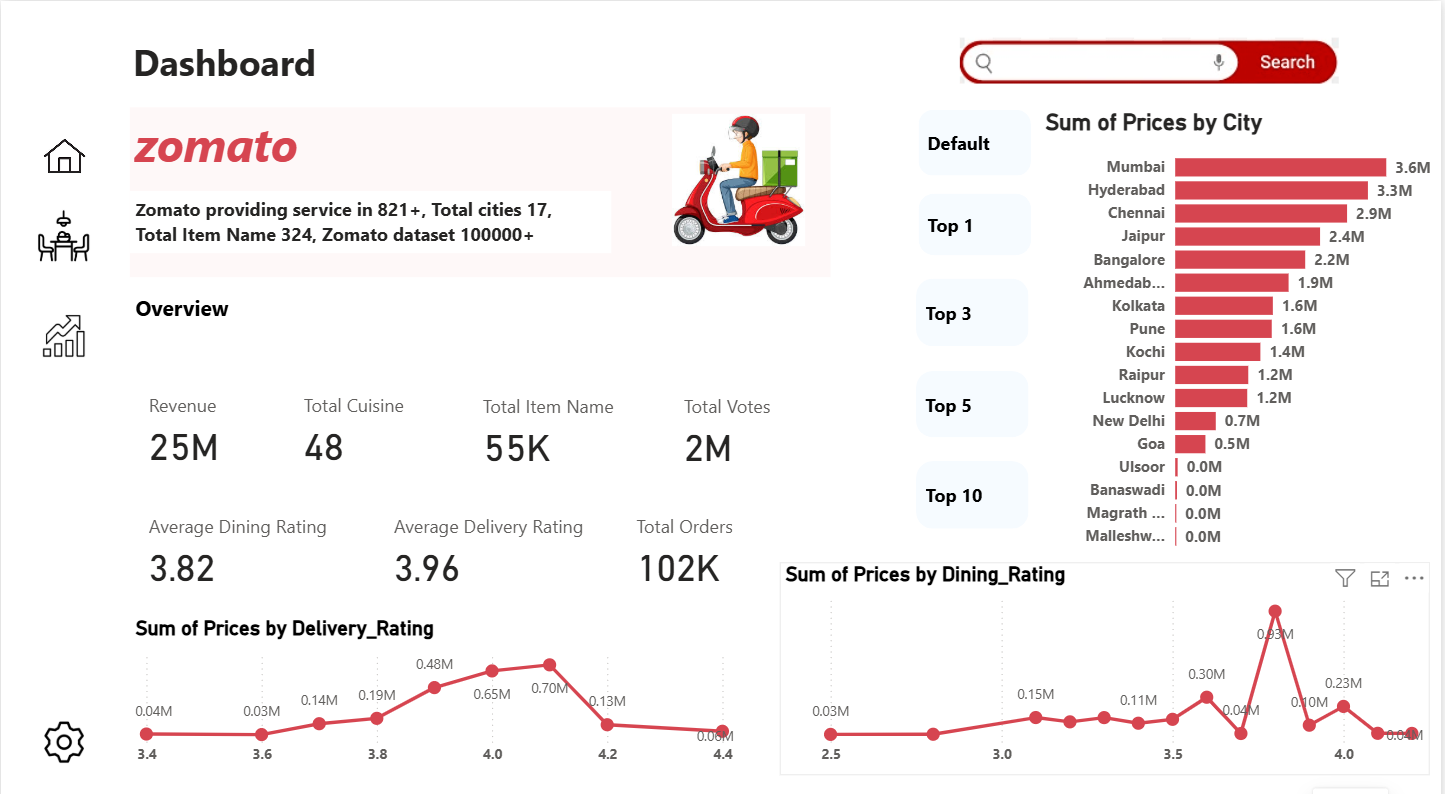

What the dashboard file says about the page in this screenshot:
{"tool":"powerbi","page":{"name":"Page 1","canvas":[1280,720],"ordinal":0},"visuals":[{"type":"textbox","box":[112.5,27.4,279.9,56.3],"z":0},{"type":"image","box":[19.2,177,74.1,64.5],"z":1000},{"type":"image","box":[22,267.6,67.2,59],"z":2000},{"type":"image","box":[23.3,629.8,65.9,57.6],"z":3000},{"type":"actionButton","box":[113.9,94.7,623,150.9],"z":4000},{"type":"image","box":[590.1,96.1,131.7,127.6],"z":5000},{"type":"actionButton","box":[813.7,408.9,100.2,60.4],"z":7000},{"type":"actionButton","box":[813.7,329.3,100.2,59],"z":8000},{"type":"actionButton","box":[813.7,247,100.2,60.4],"z":9000},{"type":"actionButton","box":[815.1,171.5,100.2,54.9],"z":10000},{"type":"actionButton","box":[815,96.2,100,58.8],"z":11000},{"type":"textbox","box":[113.9,255.2,129,42.5],"z":12000},{"type":"barChart","fields":{"Category":["zomato_cleaned.City"],"Y":["Sum(zomato_cleaned.Prices)"]},"box":[923.4,95.1,356.4,402.1],"z":14000},{"type":"cardVisual","fields":{"Data":["zomato_cleaned.Revenue"]},"box":[113.9,330.7,150.9,87.8],"z":15000},{"type":"cardVisual","fields":{"Data":["zomato_cleaned.Average Dining Rating"]},"box":[113.9,439.1,203.1,87.8],"z":16000},{"type":"cardVisual","fields":{"Data":["zomato_cleaned.Average Delivery Rating"]},"box":[332.1,439.1,209.9,87.8],"z":17000},{"type":"cardVisual","fields":{"Data":["zomato_cleaned.Total Cuisine"]},"box":[252.5,330.7,159.2,87.8],"z":18000},{"type":"cardVisual","fields":{"Data":["zomato_cleaned.Total Item Name"]},"box":[411.7,332.1,182.5,87.8],"z":19000},{"type":"cardVisual","fields":{"Data":["zomato_cleaned.Total Votes"]},"box":[590.1,332.1,182.5,93.3],"z":20000},{"type":"cardVisual","fields":{"Data":["zomato_cleaned.Total Orders"]},"box":[547.5,439.1,182.5,89.2],"z":21000},{"type":"lineChart","fields":{"Y":["Sum(zomato_cleaned.Prices)"],"Category":["zomato_cleaned.Delivery_Rating"]},"box":[113.9,546.1,542,141.3],"z":22000},{"type":"lineChart","fields":{"Y":["Sum(zomato_cleaned.Prices)"],"Category":["zomato_cleaned.Dining_Rating"]},"box":[692.5,498.5,577.1,189],"z":23000},{"type":"actionButton","box":[18.1,103.8,77.2,68.8],"z":26000},{"type":"textbox","box":[113.9,168.8,428.1,54.9],"z":28001},{"type":"image","box":[761.6,27.4,518.7,50.8],"z":28003}]}

Visuals, with their boxes in screenshot pixels (x1, y1, x2, y2), scaled from the page's 1280x720 canvas onto the 1445x794 screenshot:
textbox: (left=127, top=30, right=443, bottom=92)
image: (left=22, top=195, right=105, bottom=266)
image: (left=25, top=295, right=101, bottom=360)
image: (left=26, top=695, right=101, bottom=758)
actionButton: (left=129, top=104, right=832, bottom=271)
image: (left=666, top=106, right=815, bottom=247)
actionButton: (left=919, top=451, right=1032, bottom=518)
actionButton: (left=919, top=363, right=1032, bottom=428)
actionButton: (left=919, top=272, right=1032, bottom=339)
actionButton: (left=920, top=189, right=1033, bottom=250)
actionButton: (left=920, top=106, right=1033, bottom=171)
textbox: (left=129, top=281, right=274, bottom=328)
barChart - zomato_cleaned.City x Sum(zomato_cleaned.Prices): (left=1042, top=105, right=1444, bottom=548)
cardVisual - zomato_cleaned.Revenue: (left=129, top=365, right=299, bottom=462)
cardVisual - zomato_cleaned.Average Dining Rating: (left=129, top=484, right=358, bottom=581)
cardVisual - zomato_cleaned.Average Delivery Rating: (left=375, top=484, right=612, bottom=581)
cardVisual - zomato_cleaned.Total Cuisine: (left=285, top=365, right=465, bottom=462)
cardVisual - zomato_cleaned.Total Item Name: (left=465, top=366, right=671, bottom=463)
cardVisual - zomato_cleaned.Total Votes: (left=666, top=366, right=872, bottom=469)
cardVisual - zomato_cleaned.Total Orders: (left=618, top=484, right=824, bottom=583)
lineChart - Sum(zomato_cleaned.Prices) x zomato_cleaned.Delivery_Rating: (left=129, top=602, right=740, bottom=758)
lineChart - Sum(zomato_cleaned.Prices) x zomato_cleaned.Dining_Rating: (left=782, top=550, right=1433, bottom=758)
actionButton: (left=20, top=114, right=108, bottom=190)
textbox: (left=129, top=186, right=612, bottom=247)
image: (left=860, top=30, right=1444, bottom=86)
